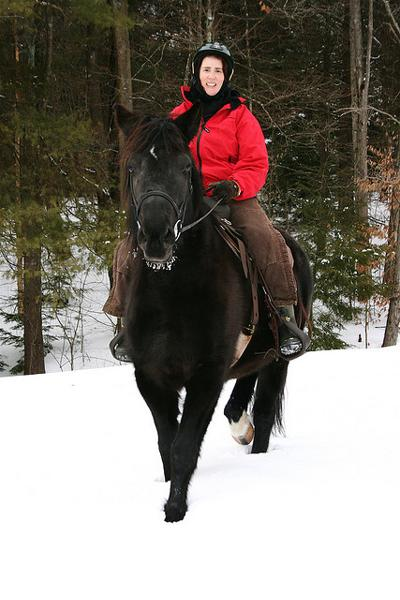person: (110, 41, 304, 359)
